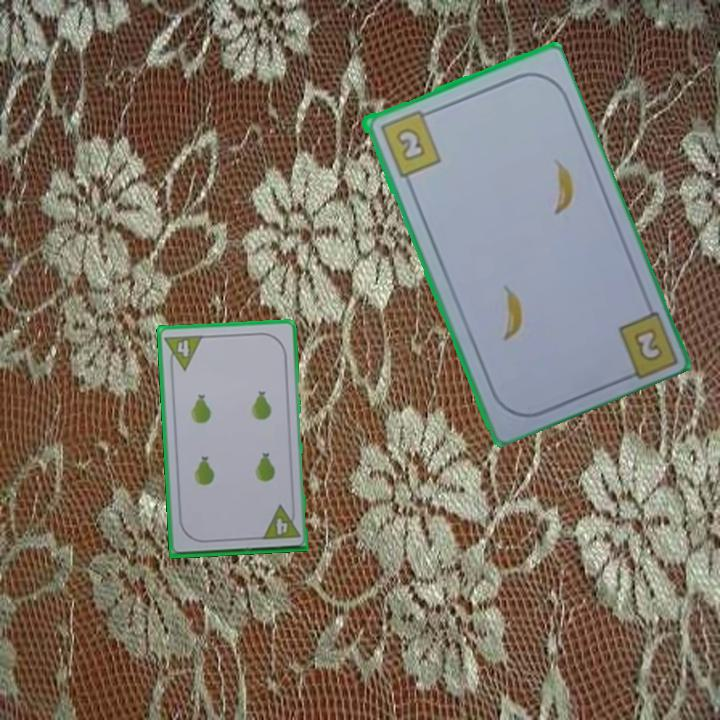2b: (375, 106, 444, 180), (629, 323, 666, 365)
4p: (161, 331, 206, 373), (258, 502, 303, 543)
